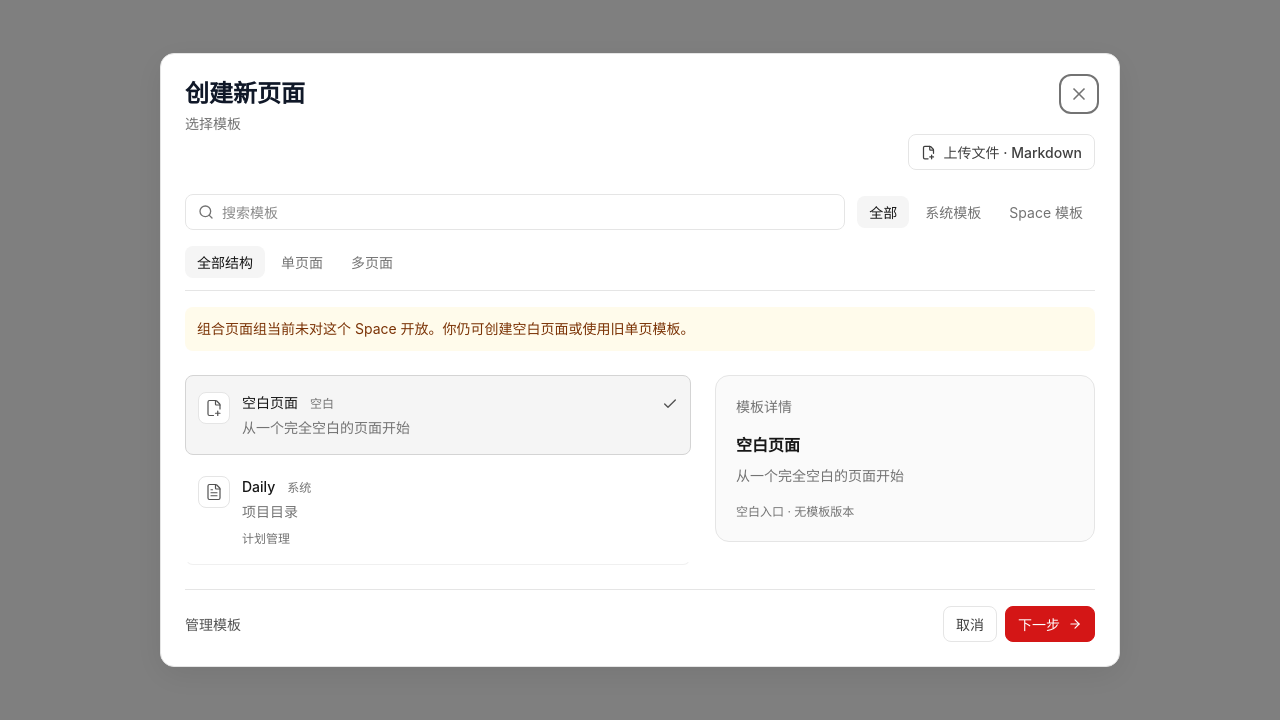
Test: NewPageDialog composite flow › interpolates system single-page default titles with catalog enabled=false
The width and height of the screenshot is (1280, 720).
Click the button "Daily 系统 项目目录 计划管理" at (214, 492), box [185,459,691,565]
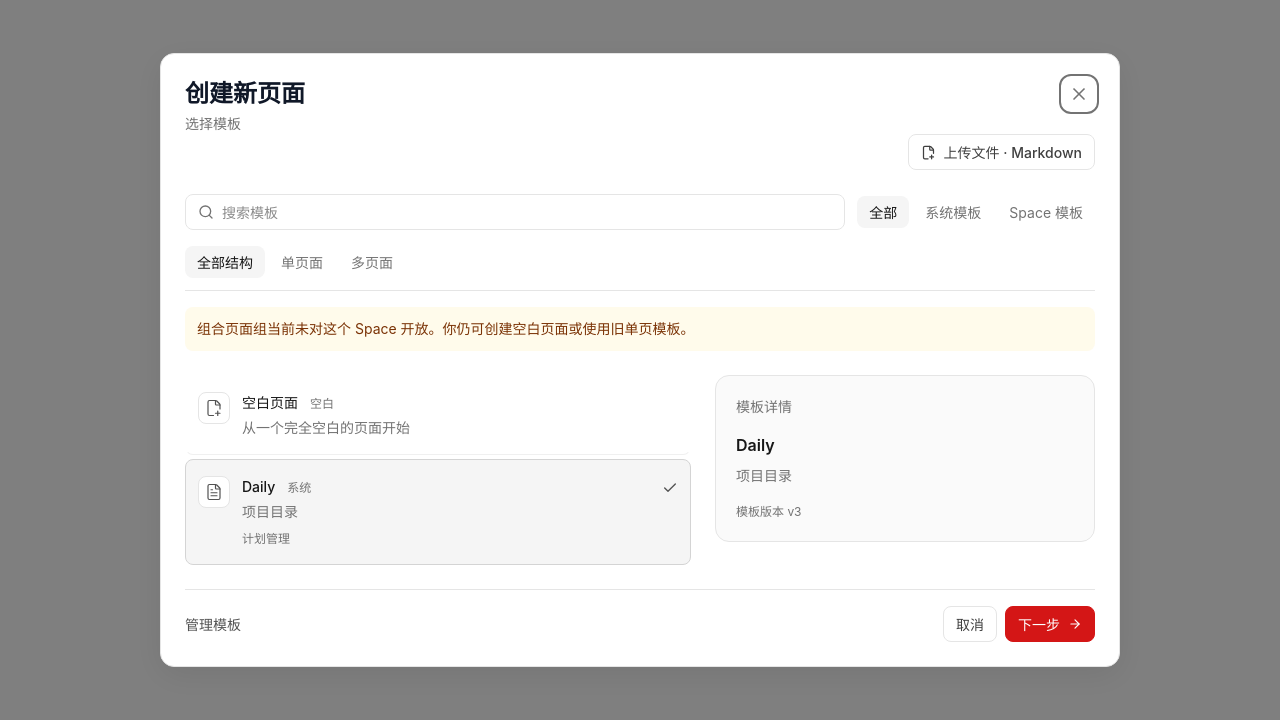
Click the button "下一步" at (1050, 624), box [1005,606,1095,642]
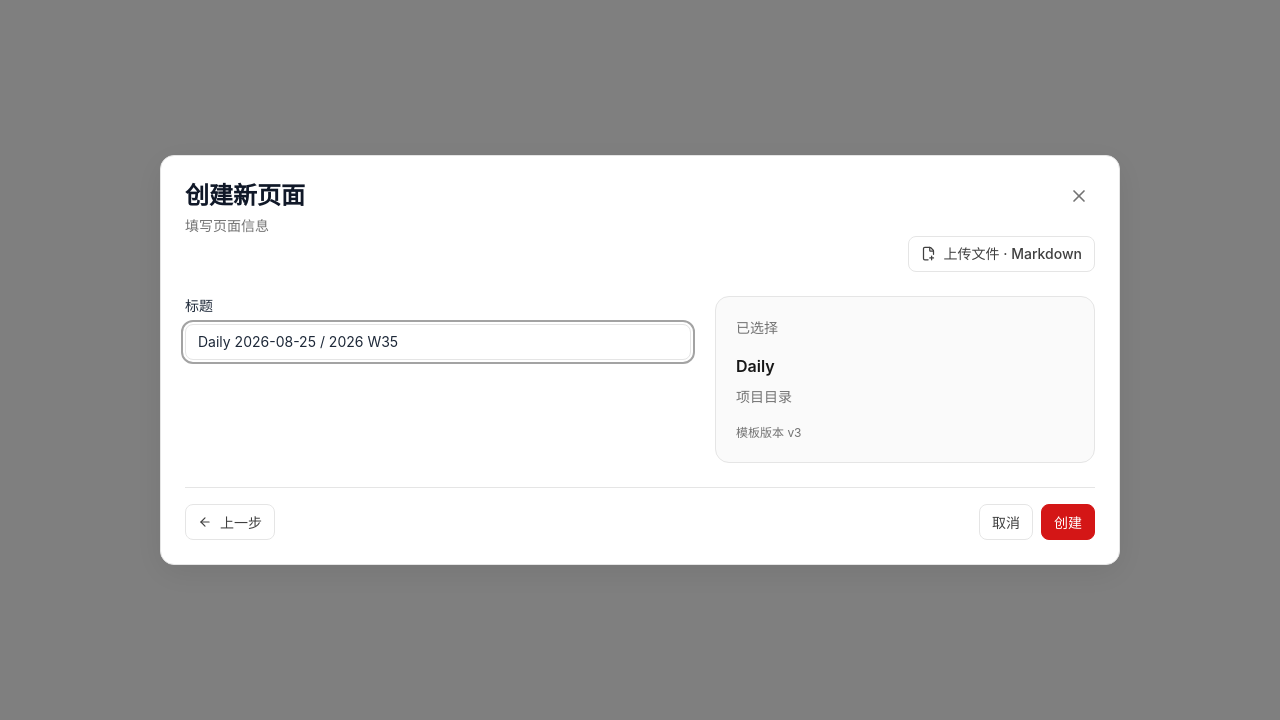
Check: the field labelled "标题" holds "Daily 2026-08-25 / 2026 W35", box [185,324,691,360]
